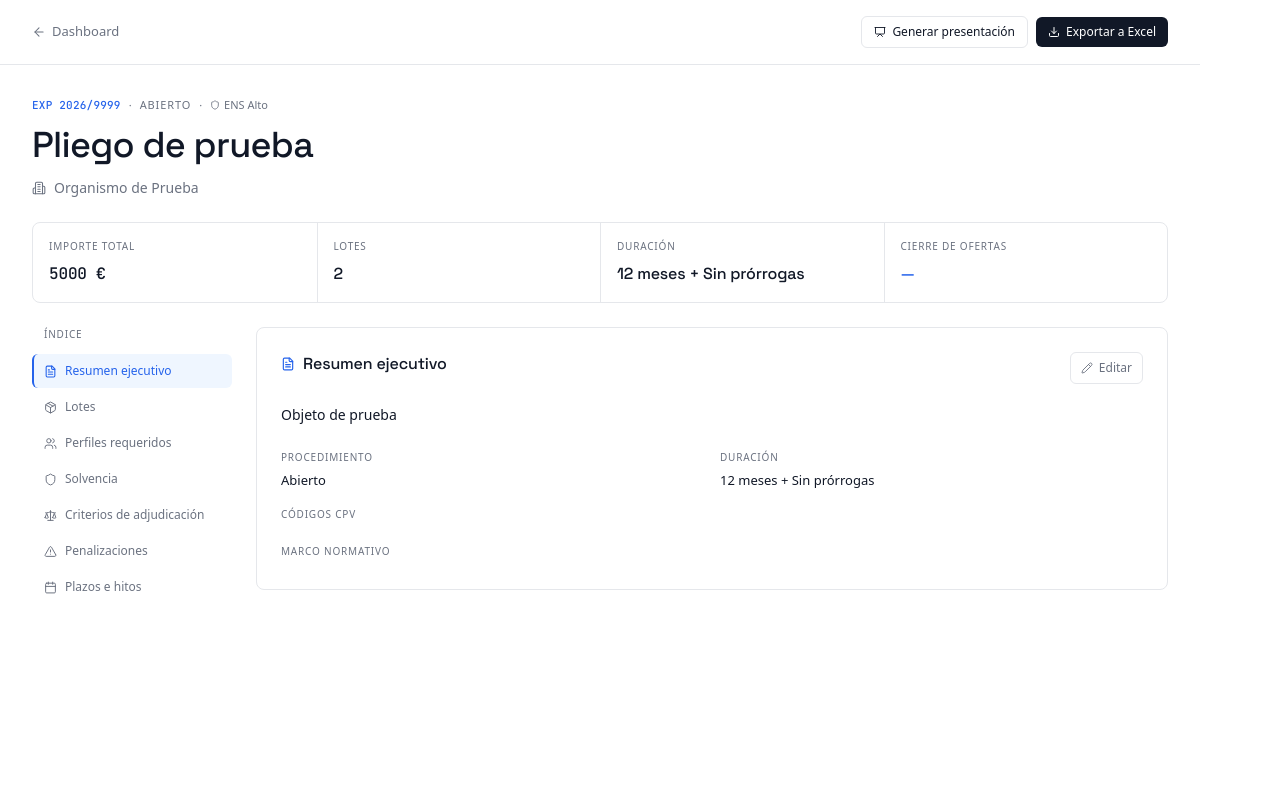
Scenario: Analysis - edición del importe total del pliego (sección Lotes) › el aviso de descuadre reacciona en vivo al editar el importe total, antes de guardar
The width and height of the screenshot is (1280, 800).
Step 1. Click the button "Lotes" → (132, 407), box [32, 390, 232, 424]
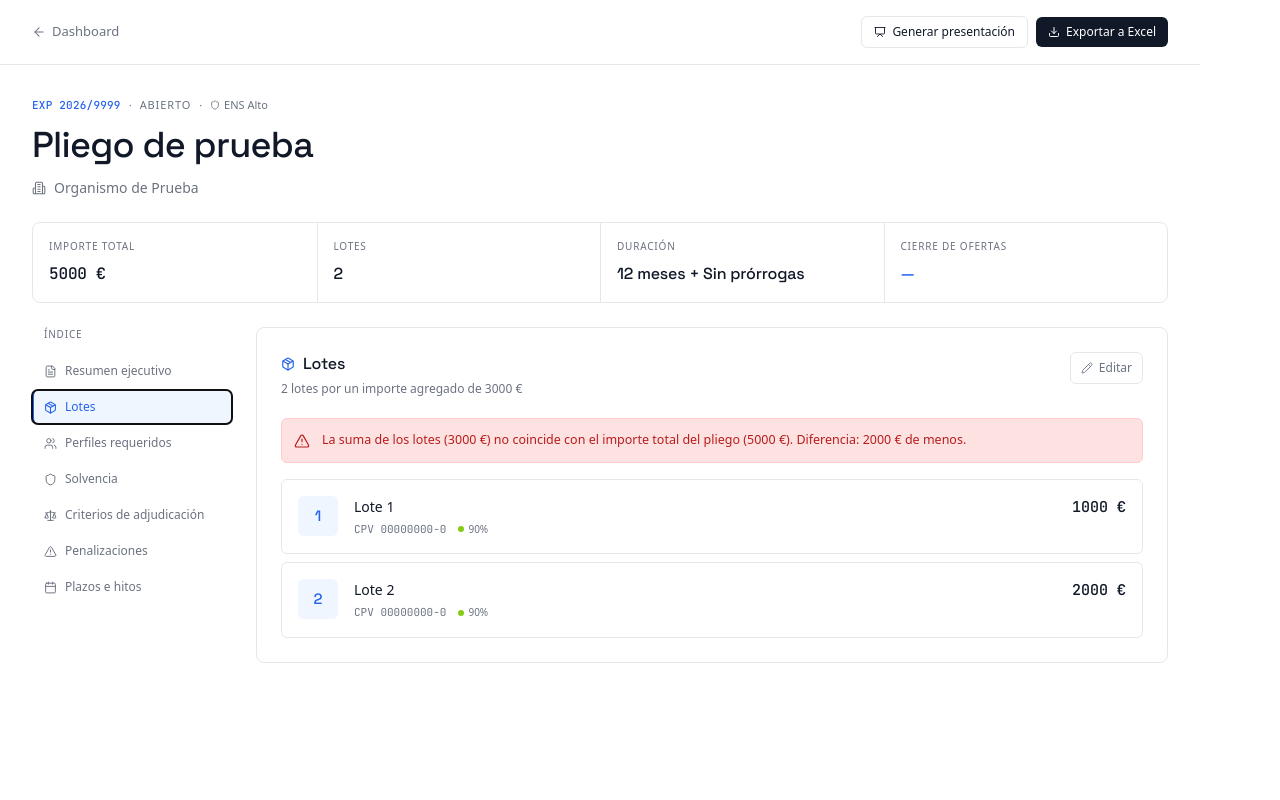
Step 2. Click the button "Editar" → (1106, 368), box [1070, 352, 1143, 384]
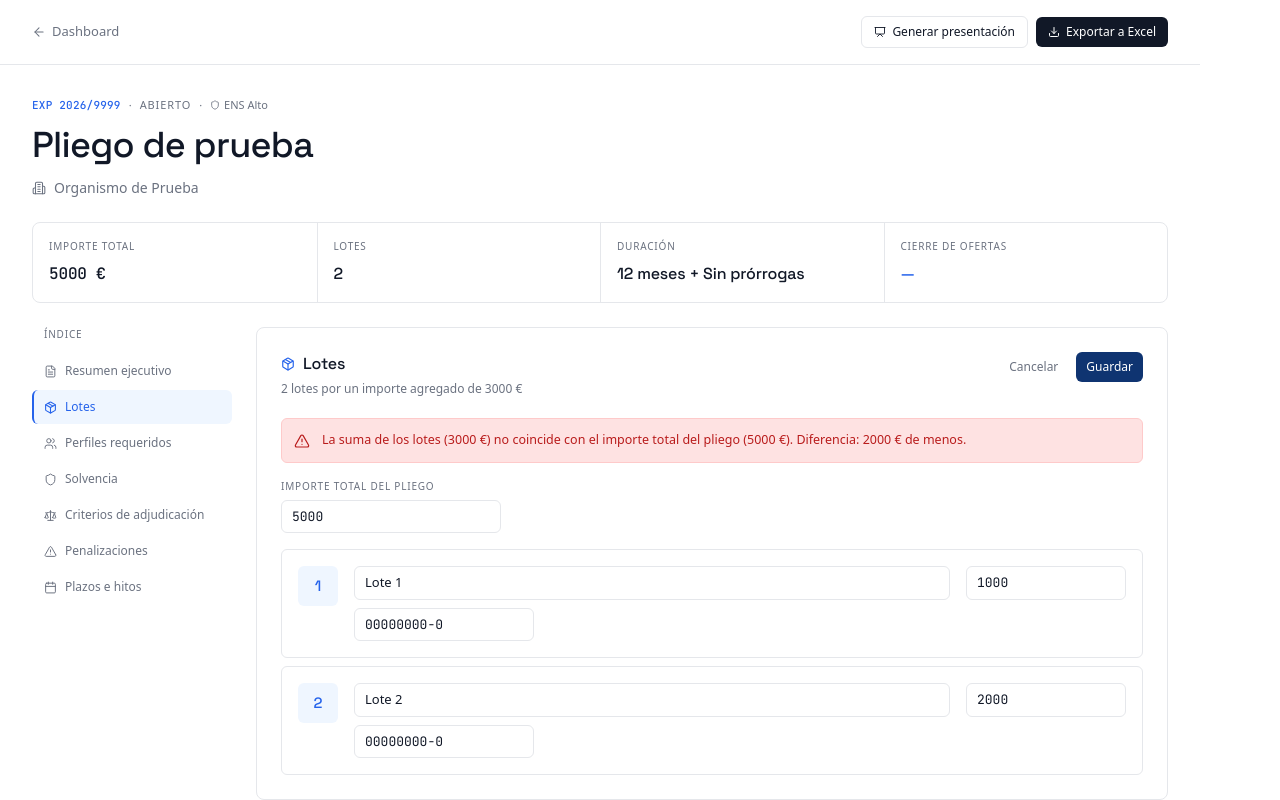
Expected: the text "no coincide con el importe total del pliego" is shown, [487, 431, 747, 448]
Step 3. Replace the text in the 1st number field with "3000" → (391, 517), box [281, 500, 501, 533]
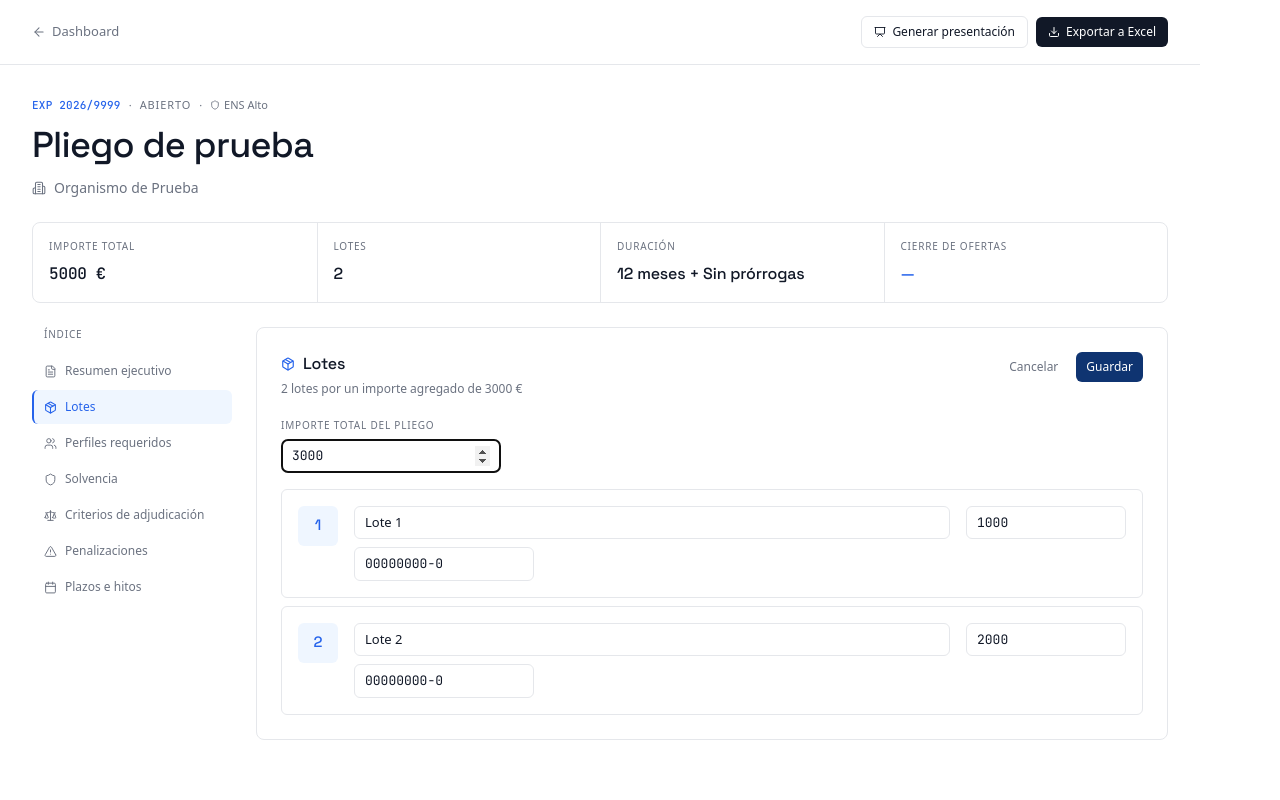
Expected: the text "no coincide con el importe total del pliego" is gone
